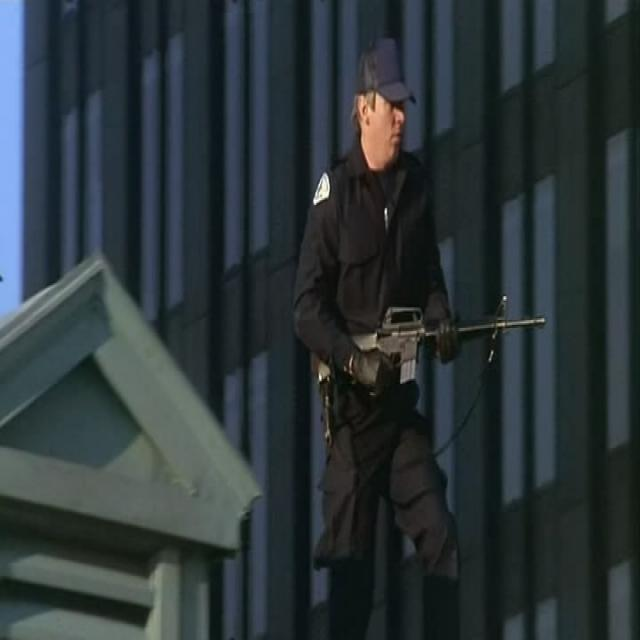gun-knife-thesis - v11 Yolov5 augmented: (308, 298, 546, 392)
